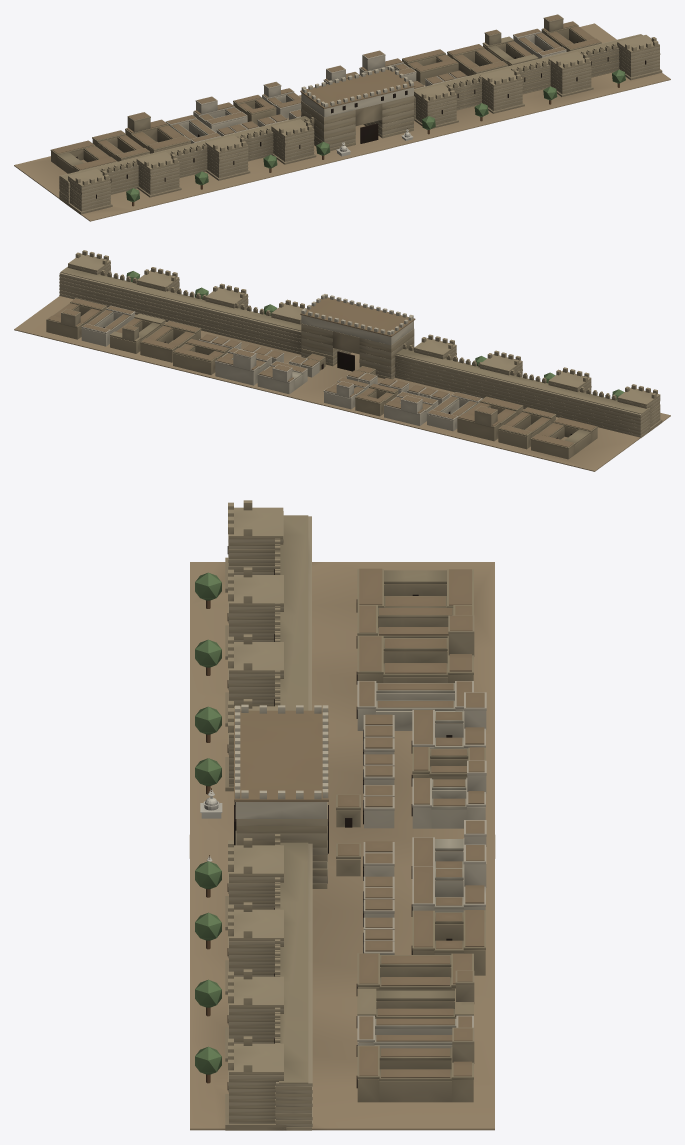
The model's file is sirkap-wall.glb.
The picture shows the model from 3 angles, top to bottom: view 1: azimuth 30°, elevation 25°; view 2: azimuth 150°, elevation 25°; view 3: azimuth 270°, elevation 25°; orthographic projection. The views are drawn at different scales.
Parts seen in each view (by area): view 1: p1_wall and bastions, p3_main street, p2_north gate, p0_ground; view 2: p3_main street, p1_wall and bastions, p2_north gate, p0_ground; view 3: p3_main street, p0_ground, p1_wall and bastions, p2_north gate.
Boxes of the visible parts, x1,y1,x2,y2 form: p1_wall and bastions: (59, 34, 662, 214); p3_main street: (50, 14, 625, 206); p2_north gate: (75, 37, 658, 198); p0_ground: (14, 23, 670, 221); p3_main street: (46, 271, 624, 459); p1_wall and bastions: (59, 253, 662, 437); p2_north gate: (75, 250, 657, 400); p0_ground: (14, 296, 670, 471); p3_main street: (189, 568, 495, 1102); p0_ground: (190, 562, 494, 1130); p1_wall and bastions: (225, 507, 312, 1130); p2_north gate: (227, 500, 328, 1089).
Bounding box in the file's own units: 220 × 17.87 × 50.18.
